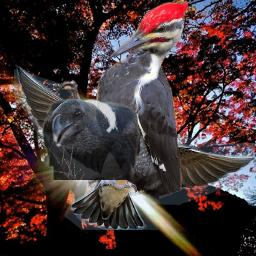Crow: (42, 98, 140, 180)
Swallow: (14, 64, 255, 230)
Woodpecker: (59, 1, 188, 199)
